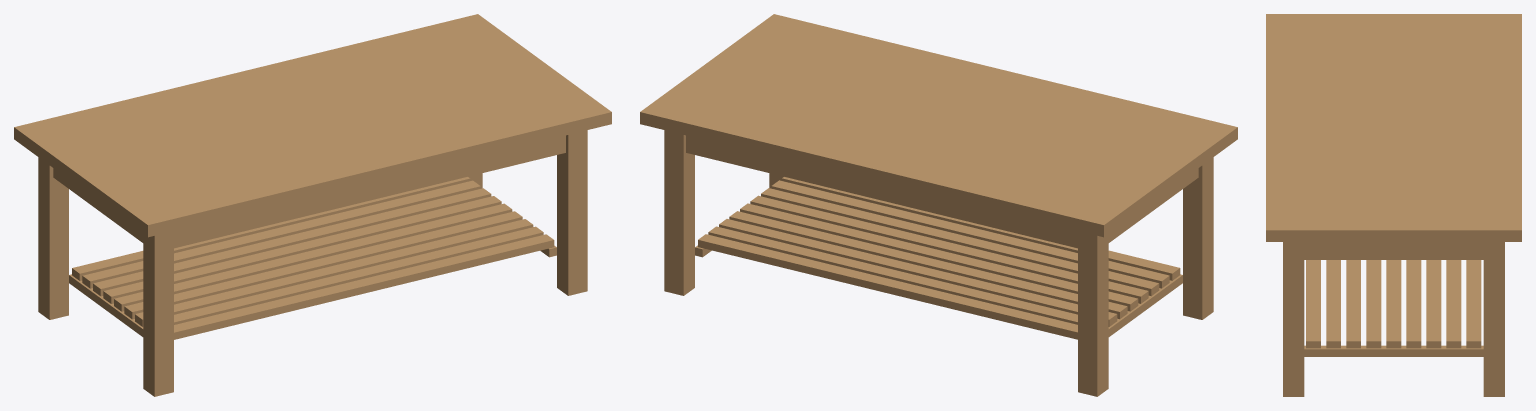
File: 004_coffee_table_with_shelf.glb
The picture shows the model from 3 angles, left to right: view 1: azimuth 30°, elevation 25°; view 2: azimuth 150°, elevation 25°; view 3: azimuth 270°, elevation 25°; orthographic projection. The views are drawn at different scales.
Parts seen in each view (by area): view 1: 016_table_top, 017_lower_shelf_slats_9, 009_table_apron_front, 002_table_leg, 003_table_leg, 000_table_leg, 010_table_apron_l, 018_shelf_rail_l; view 2: 016_table_top, 017_lower_shelf_slats_9, 008_table_apron_back, 000_table_leg, 001_table_leg, 002_table_leg, 010_table_apron_l, 018_shelf_rail_l; view 3: 016_table_top, 017_lower_shelf_slats_9, 001_table_leg, 003_table_leg, 011_table_apron_r, 019_shelf_rail_r.
Part boxes in pixels (x1,y1,x2,y2): 016_table_top: (14, 14, 611, 237); 017_lower_shelf_slats_9: (72, 177, 554, 339); 009_table_apron_front: (174, 135, 565, 248); 002_table_leg: (143, 231, 173, 396); 003_table_leg: (557, 130, 587, 295); 000_table_leg: (38, 157, 68, 319); 010_table_apron_l: (53, 168, 143, 242); 018_shelf_rail_l: (69, 274, 143, 336); 016_table_top: (640, 14, 1237, 237); 017_lower_shelf_slats_9: (698, 177, 1180, 339); 008_table_apron_back: (686, 135, 1077, 248); 000_table_leg: (1078, 231, 1108, 396); 001_table_leg: (664, 130, 694, 295); 002_table_leg: (1183, 157, 1213, 319); 010_table_apron_l: (1108, 168, 1198, 242); 018_shelf_rail_l: (1108, 274, 1182, 336); 016_table_top: (1266, 14, 1521, 241); 017_lower_shelf_slats_9: (1306, 260, 1481, 348); 001_table_leg: (1483, 242, 1504, 396); 003_table_leg: (1283, 242, 1304, 396); 011_table_apron_r: (1304, 242, 1483, 259); 019_shelf_rail_r: (1304, 345, 1483, 356).
Bounding box in the file's own units: 1.2 × 0.45 × 0.6.
